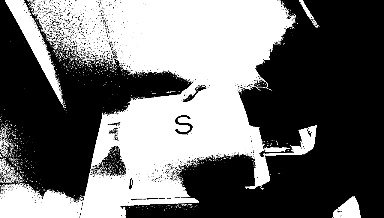S: (171, 113, 196, 135)
